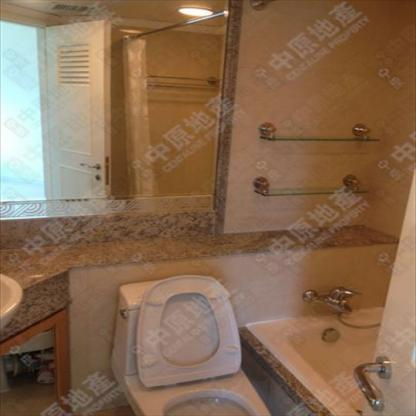Bathtub: (248, 307, 386, 415)
Toilet: (110, 273, 273, 415)
